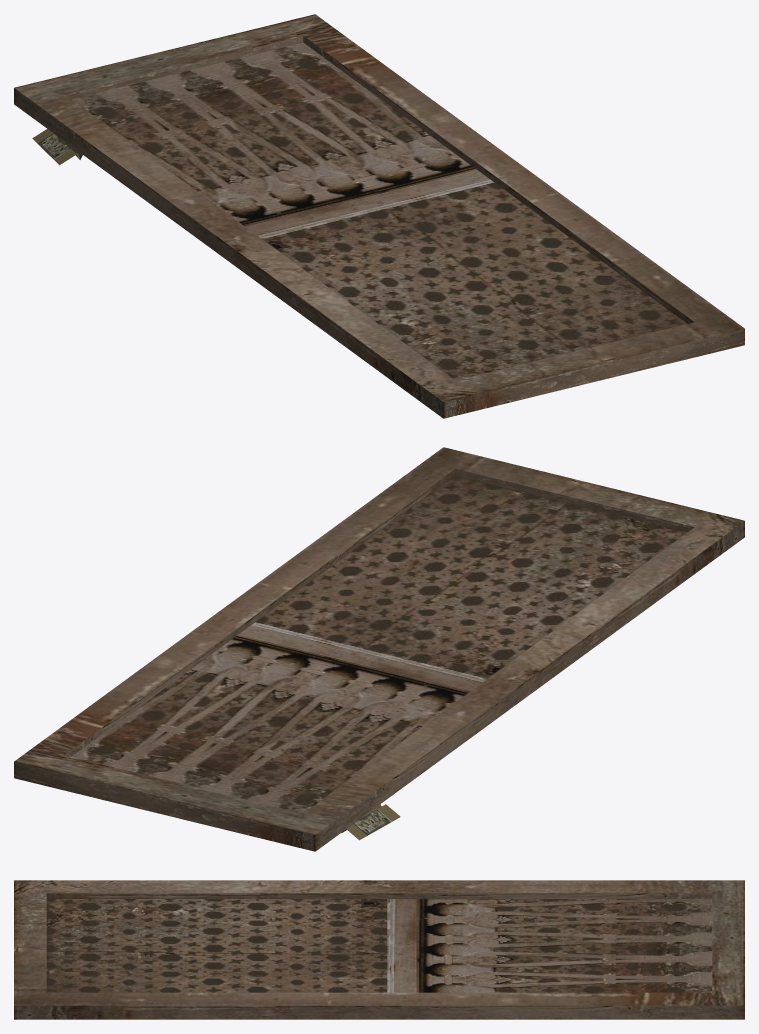
File: prop_northafricawoodscreensingle.glb
3 views of the same model, one above another, from view 1: azimuth 30°, elevation 25°; view 2: azimuth 150°, elevation 25°; view 3: azimuth 270°, elevation 25° (orthographic). The views are drawn at different scales.
Bounding box in the file's own units: 32.38 × 2.39 × 74.96.
Materials: 1 (1 with a texture image).
